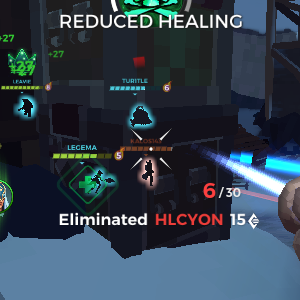model: (139, 157, 159, 191)
